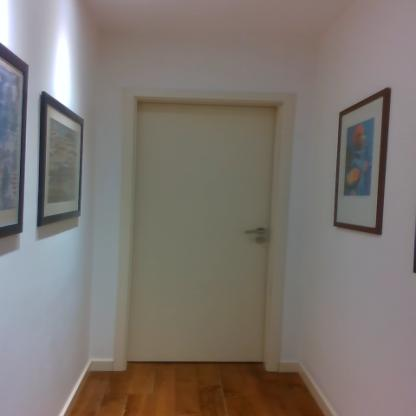closed: (112, 80, 308, 377)
